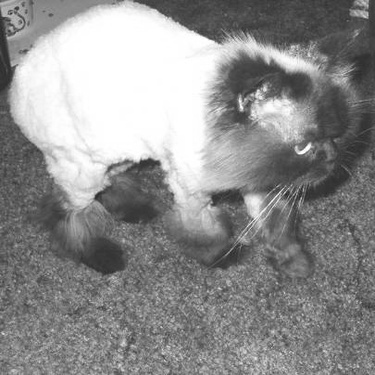cat: (6, 1, 370, 284)
